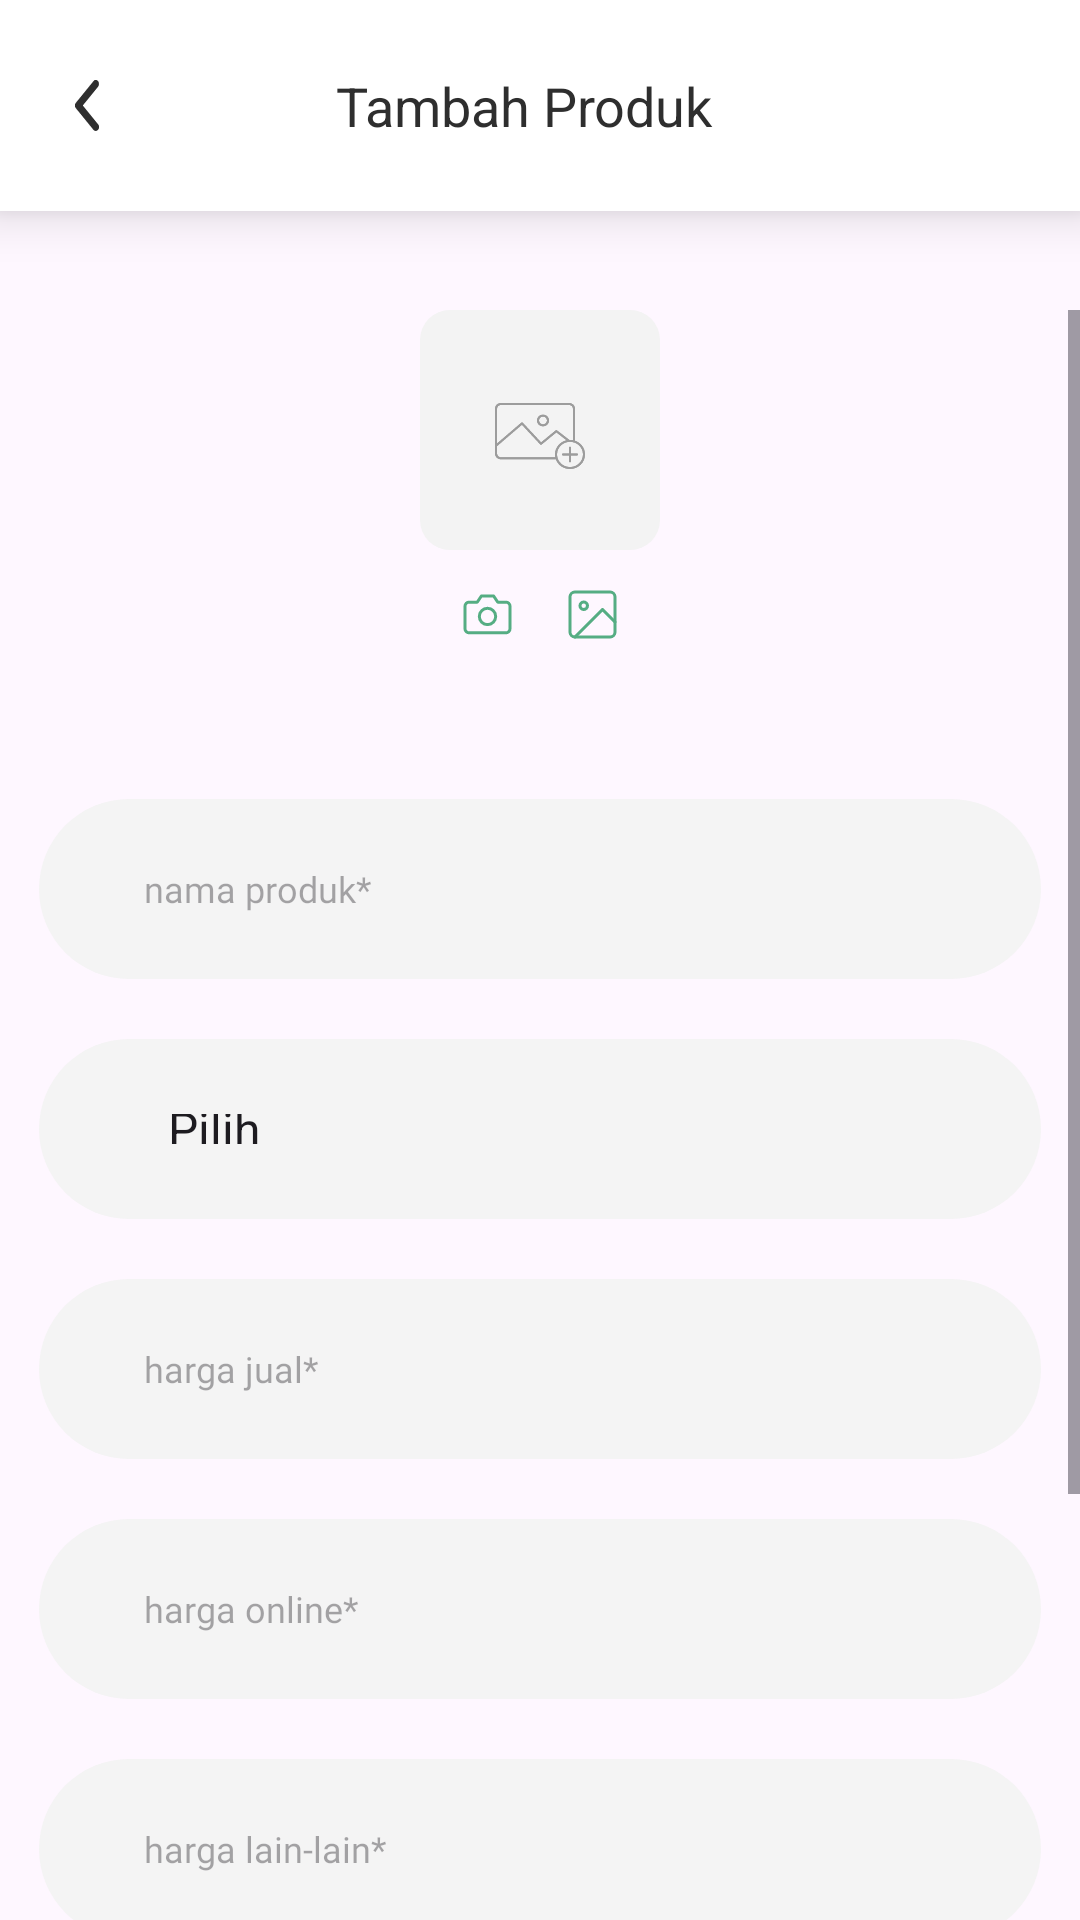

Where to tap for icons on this 1080px×1920px app screen, as (x=x, y=y):
add: (x=540, y=436)
back: (x=87, y=105)
camera: (x=487, y=614)
galeri: (x=592, y=614)
